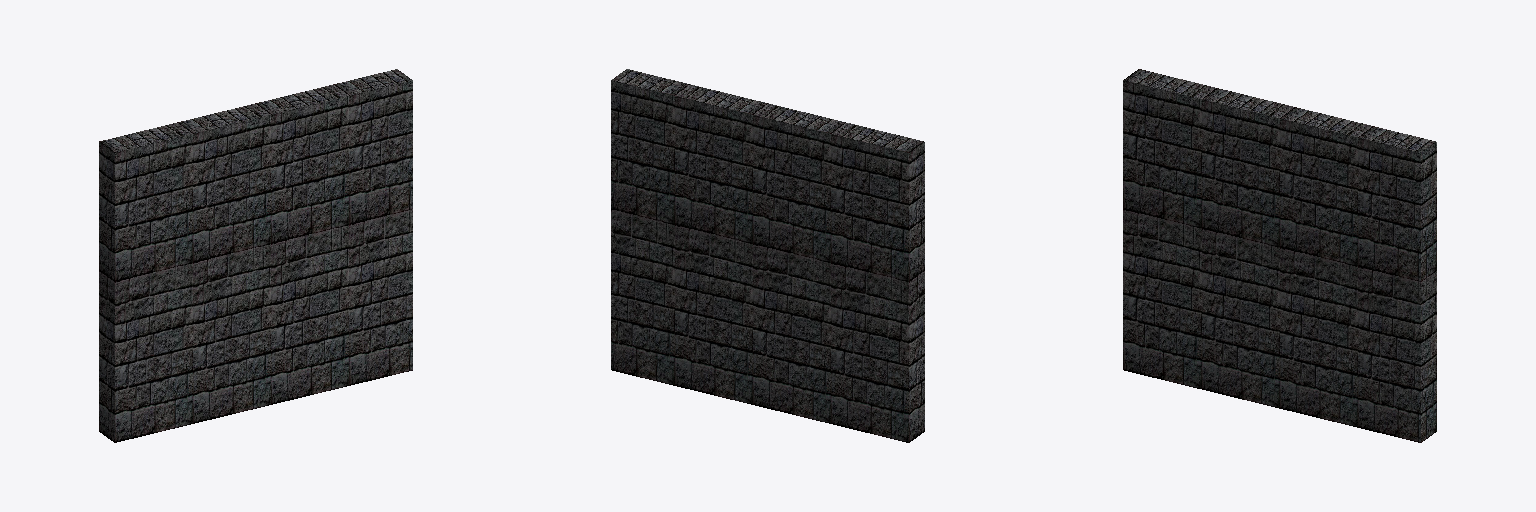
The picture shows the model from 3 angles: view 1: azimuth 30°, elevation 25°; view 2: azimuth 150°, elevation 25°; view 3: azimuth 330°, elevation 25°; orthographic projection.
Visible parts, largest first — view 1: SketchUp_ID2.001_pared_SketchUp_ID2.001_pared_pared_SketchUp_ID; view 2: SketchUp_ID2.001_pared_SketchUp_ID2.001_pared_pared_SketchUp_ID; view 3: SketchUp_ID2.001_pared_SketchUp_ID2.001_pared_pared_SketchUp_ID.
Boxes of the visible parts, <box> form: SketchUp_ID2.001_pared_SketchUp_ID2.001_pared_pared_SketchUp_ID: <box>99,69,412,442</box>; SketchUp_ID2.001_pared_SketchUp_ID2.001_pared_pared_SketchUp_ID: <box>611,69,924,442</box>; SketchUp_ID2.001_pared_SketchUp_ID2.001_pared_pared_SketchUp_ID: <box>1123,69,1436,442</box>.
Size of the model in its own units: 8.93 by 8.31 by 0.8097.
1 materials, 1 textured.